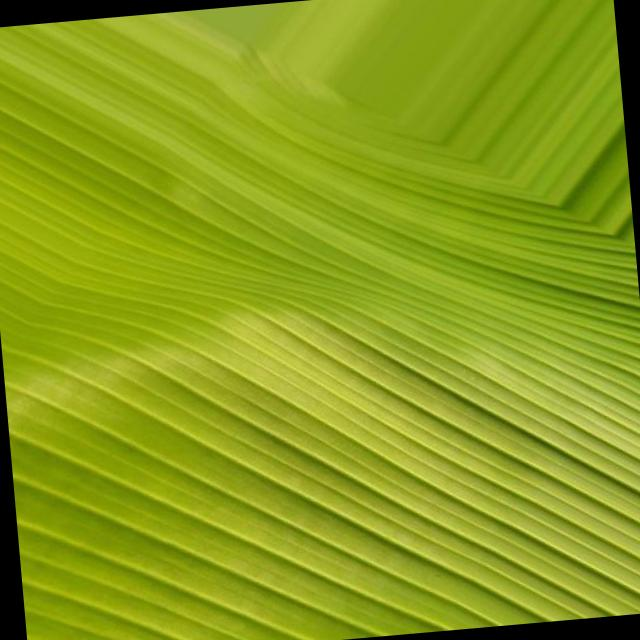Banana_Healthy: (46, 21, 603, 640)
